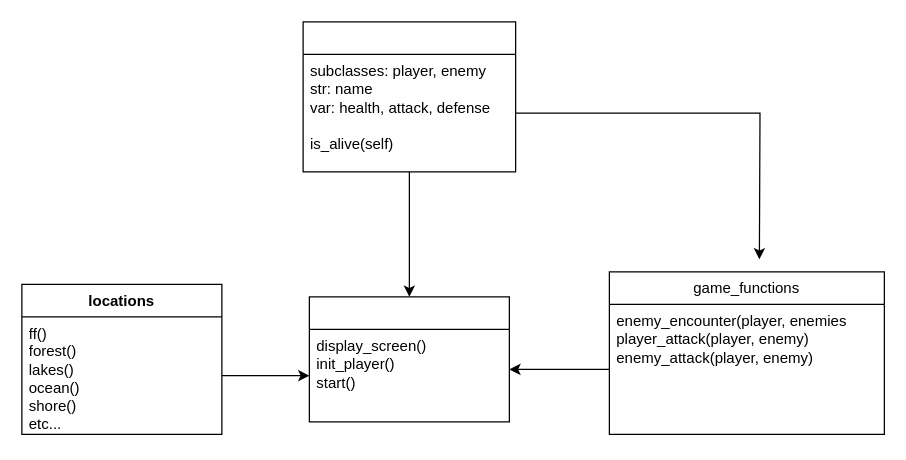
The diagram is 906 pixels wide and 460 high, and some of its shapes have lost their labels. The box of each missing label's shape, as (x1, y1, x2, y2) in pixels:
character: (302, 21, 516, 172)
main: (308, 296, 509, 422)
